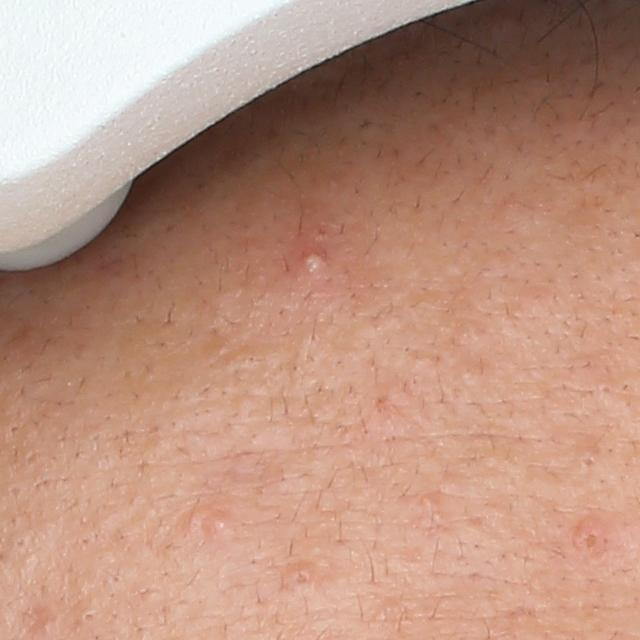atrophic_scar: (22, 601, 56, 640)
comedo: (284, 562, 321, 594), (576, 529, 607, 563), (203, 511, 235, 537), (76, 605, 104, 630), (573, 451, 602, 474), (596, 379, 619, 401)
pustule: (298, 246, 330, 277)
